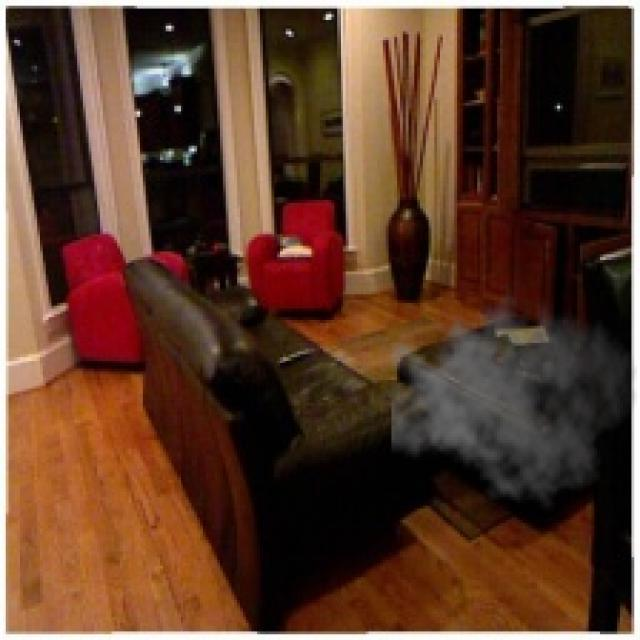Smoke: (392, 277, 637, 512)
